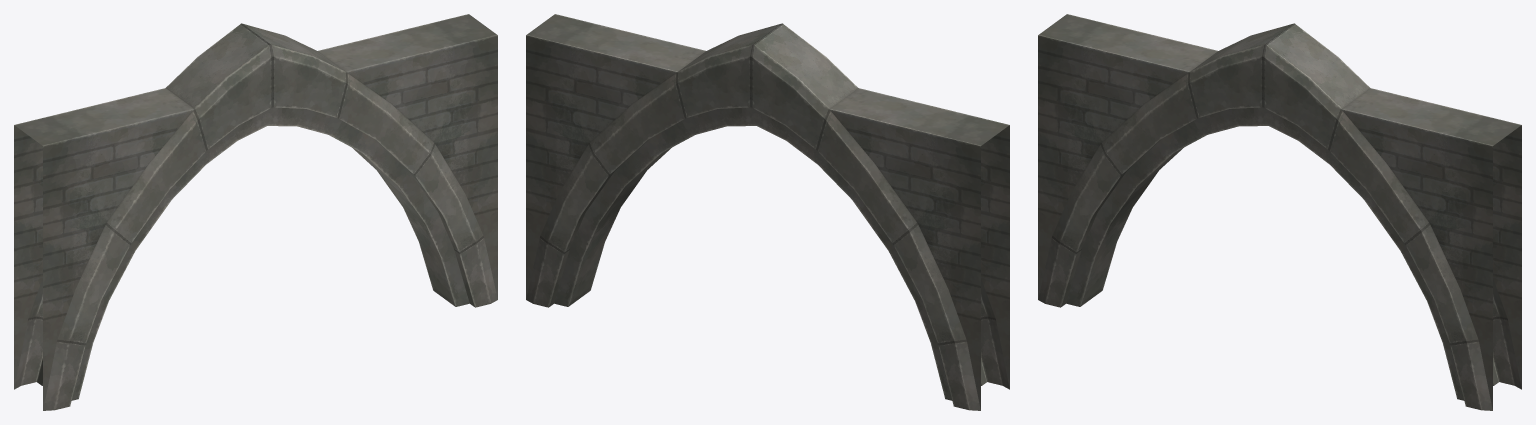
File: archway_arch.fbx
The picture shows the model from 3 angles, left to right: view 1: azimuth 30°, elevation 25°; view 2: azimuth 150°, elevation 25°; view 3: azimuth 330°, elevation 25°; orthographic projection.
Parts seen in each view (by area): view 1: archway_arch; view 2: archway_arch; view 3: archway_arch.
Part boxes in pixels (bbox=[...]): archway_arch: bbox=[14, 14, 497, 410]; archway_arch: bbox=[526, 14, 1009, 410]; archway_arch: bbox=[1038, 14, 1521, 410].
Bounding box in the file's own units: 376 × 246 × 47.87.
